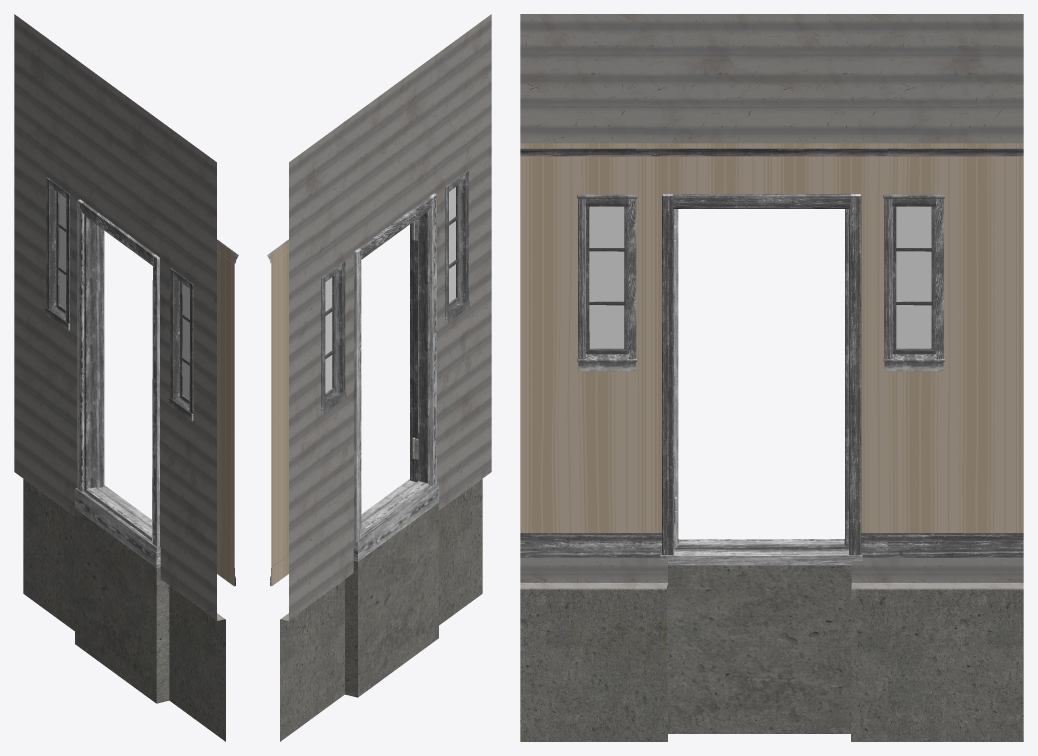
The model's file is SM_Frame_A2_400_A.fbx.
The picture shows the model from 3 angles, left to right: view 1: azimuth 30°, elevation 25°; view 2: azimuth 150°, elevation 25°; view 3: azimuth 270°, elevation 25°; orthographic projection. The views are drawn at different scales.
Visible parts, largest first — view 1: SM_Frame_A2_400_A_LOD0; view 2: SM_Frame_A2_400_A_LOD0; view 3: SM_Frame_A2_400_A_LOD0.
Boxes of the visible parts, left/top/right/bottom form: SM_Frame_A2_400_A_LOD0: left=14, top=14, right=238, bottom=741; SM_Frame_A2_400_A_LOD0: left=267, top=14, right=491, bottom=741; SM_Frame_A2_400_A_LOD0: left=520, top=14, right=1023, bottom=741.
Bounding box in the file's own units: 20.49 × 280 × 443.
8 materials, 7 textured.
